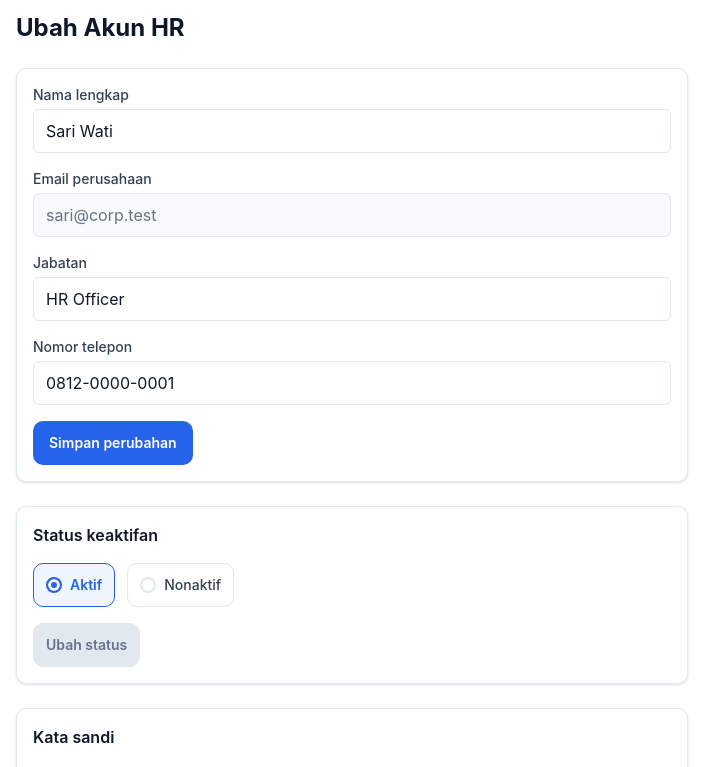
Test case: HrEditPage › refuses an empty profile save before any request
Step 1. Clear the field labelled "Nama lengkap" → [352, 131], box [33,109,671,153]
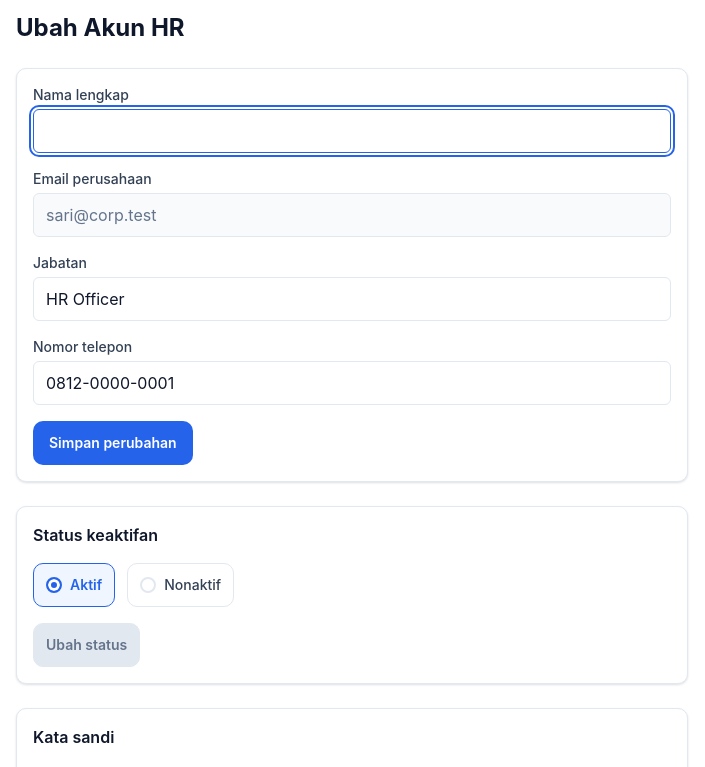
Step 2. Click the button with test id "hr-edit-save" → [113, 443], box [33,421,193,465]
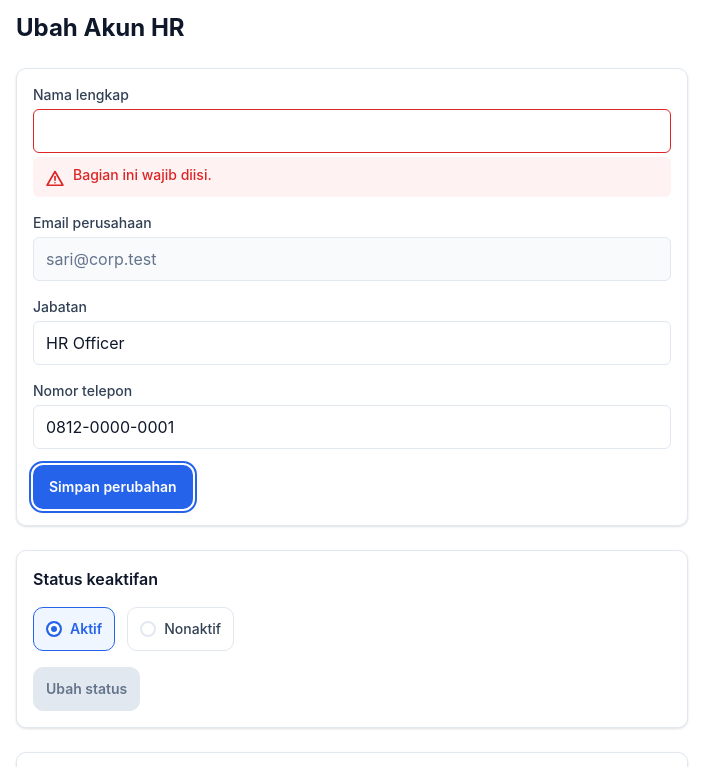
Check: the message with test id "hr-edit-error-name" reads "Bagian ini wajib diisi.", box [73,166,212,183]
